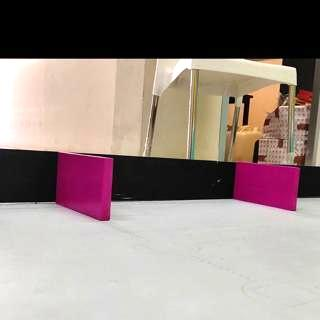xparking: (57, 158, 111, 216), (240, 168, 298, 208)
